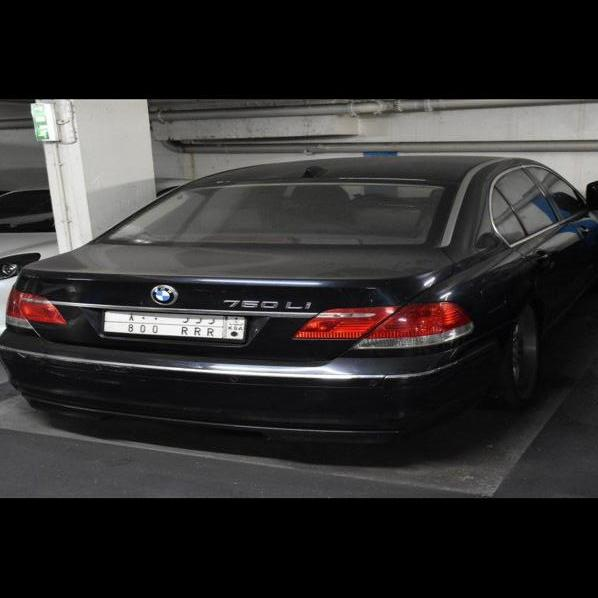numberplate: (105, 309, 247, 341)
